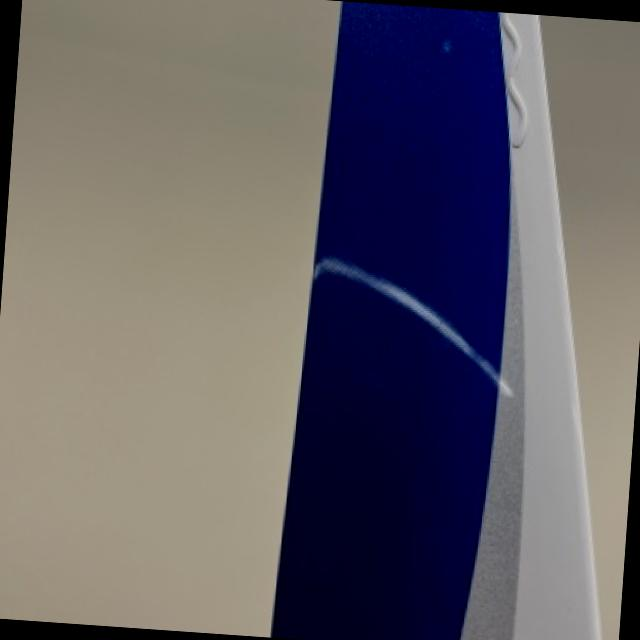healthy: (272, 1, 596, 640)
